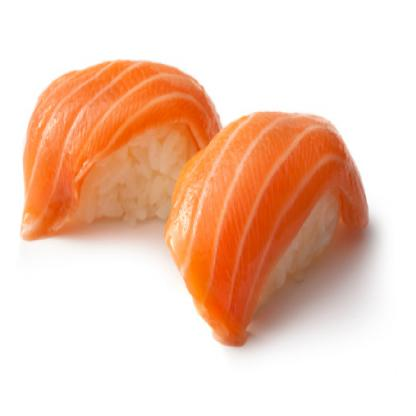sake: (155, 105, 378, 353)
